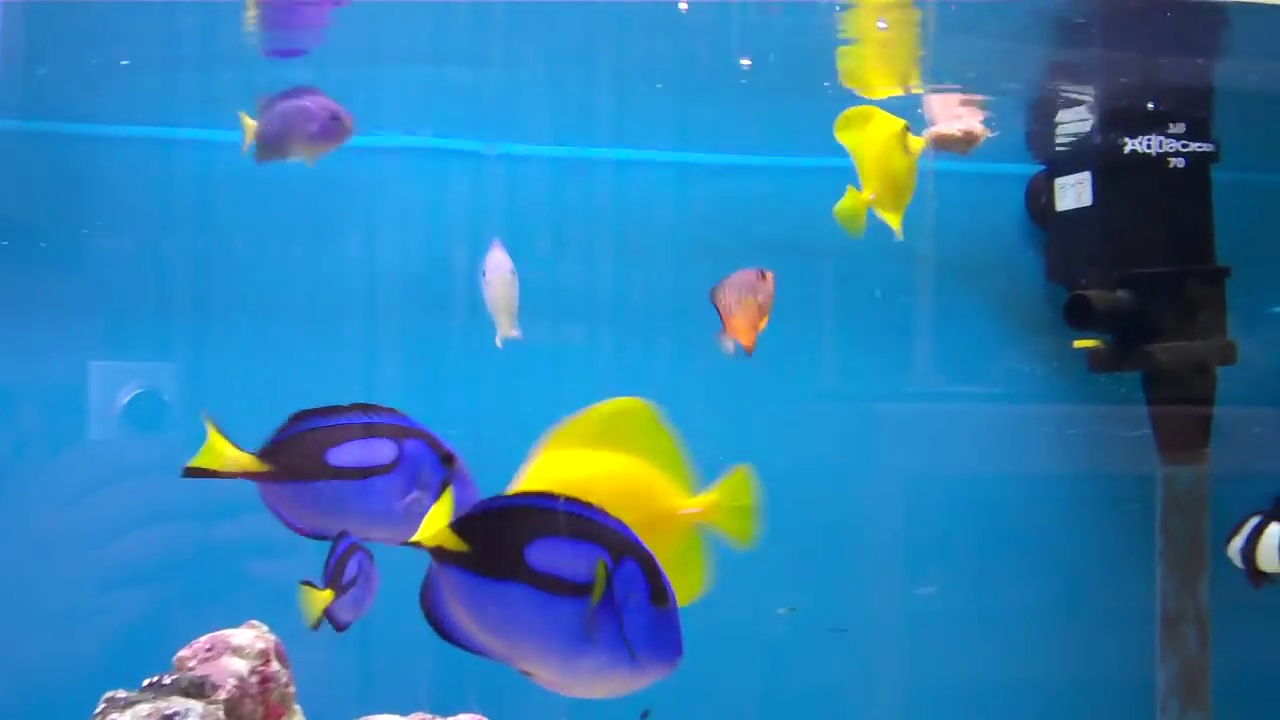blue tang surgeonfish: (184, 384, 482, 575), (418, 485, 673, 698), (302, 535, 392, 646)
saddle butterfly fish: (803, 103, 942, 230)
